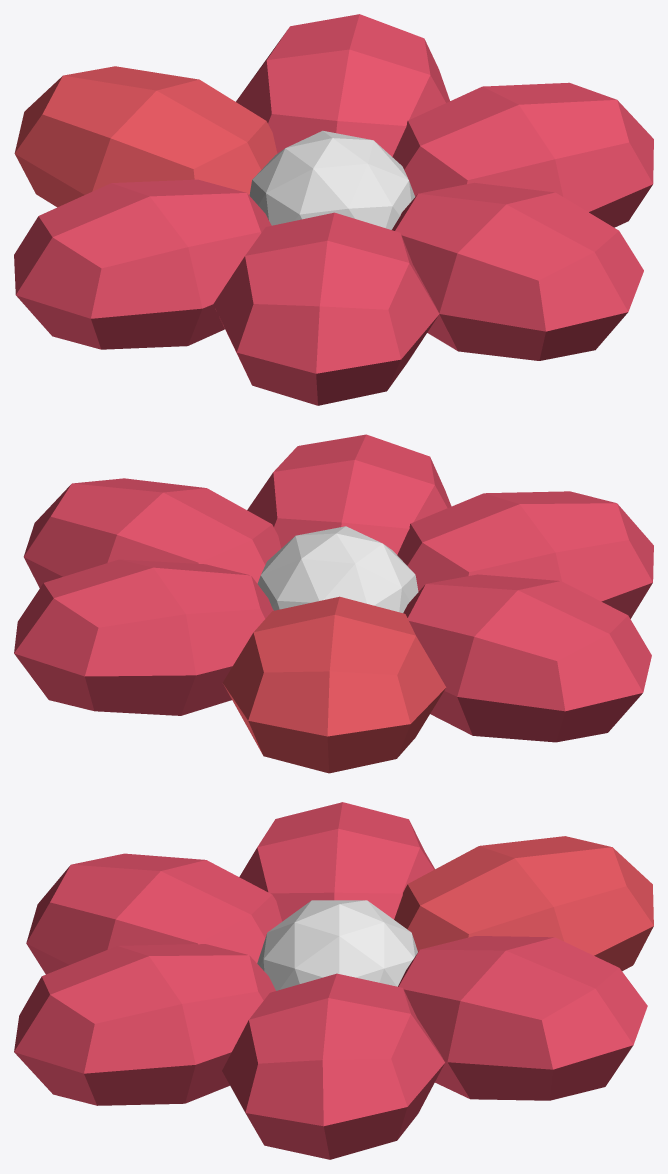
File: floare.glb
3 renders of one model, top to bottom at view 1: azimuth 30°, elevation 25°; view 2: azimuth 150°, elevation 25°; view 3: azimuth 270°, elevation 25°, orthographic.
Visible parts, largest first — view 1: Cube, Cube.002, Cube.001, Cube.005, Cube.003, Cube.004, Icosphere; view 2: Cube, Cube.004, Cube.005, Cube.001, Cube.003, Cube.002, Icosphere; view 3: Cube.002, Cube.004, Cube.003, Cube.005, Cube.001, Cube, Icosphere.
Boxes of the visible parts, box(x1,y1,x2,y2) form: Cube: box(14, 179, 271, 349); Cube.002: box(392, 182, 643, 360); Cube.001: box(213, 212, 439, 405); Cube.005: box(14, 66, 277, 207); Cube.003: box(392, 82, 653, 227); Cube.004: box(236, 14, 449, 156); Icosphere: box(249, 130, 414, 229); Cube: box(403, 574, 651, 742); Cube.004: box(14, 559, 273, 715); Cube.005: box(222, 596, 446, 773); Cube.001: box(397, 491, 653, 618); Cube.003: box(23, 478, 280, 588); Cube.002: box(247, 434, 451, 554); Icosphere: box(257, 526, 418, 612); Cube.002: box(14, 944, 275, 1105); Cube.004: box(398, 936, 647, 1100); Cube.003: box(222, 973, 444, 1159); Cube.005: box(394, 836, 653, 971); Cube.001: box(26, 853, 281, 974); Cube: box(239, 802, 434, 921); Icosphere: box(257, 900, 417, 990).
Size of the model in its own units: 8.02 by 2.05 by 7.16.
